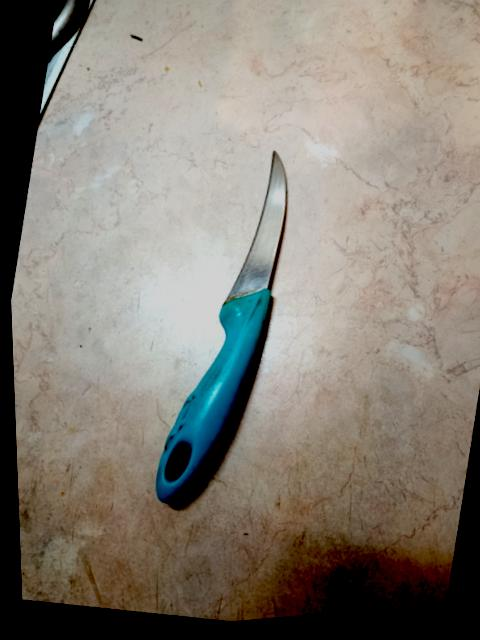Knife: (156, 153, 286, 502)
